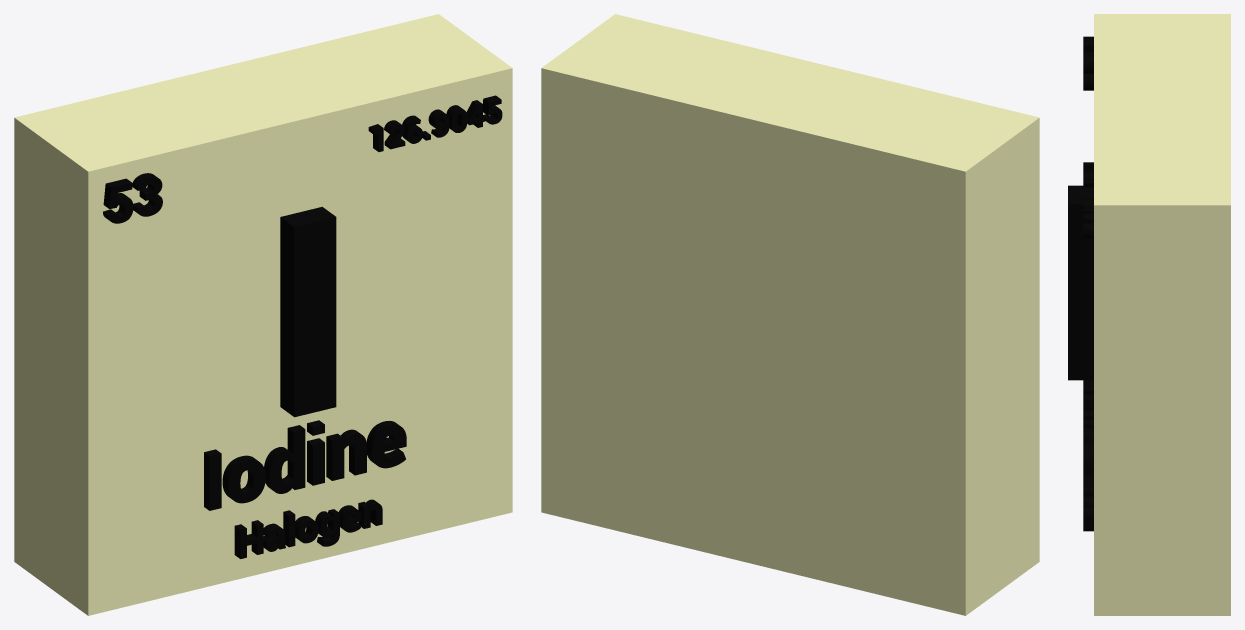
The picture shows the model from 3 angles, left to right: view 1: azimuth 30°, elevation 25°; view 2: azimuth 150°, elevation 25°; view 3: azimuth 270°, elevation 25°; orthographic projection. The views are drawn at different scales.
Parts seen in each view (by area): view 1: Cube, Text, Text.001, Text.002, Text.004, Text.003; view 2: Cube; view 3: Cube, Text, Text.001, Text.004, Text.003, Text.002.
Boxes of the visible parts, <box> form: Cube: <box>14,14,512,615</box>; Text: <box>280,206,336,417</box>; Text.001: <box>204,420,406,510</box>; Text.002: <box>234,499,382,558</box>; Text.004: <box>368,95,502,151</box>; Text.003: <box>103,173,162,223</box>; Cube: <box>541,14,1039,615</box>; Cube: <box>1094,14,1230,615</box>; Text: <box>1068,185,1093,380</box>; Text.001: <box>1083,380,1093,487</box>; Text.004: <box>1083,162,1093,238</box>; Text.003: <box>1083,36,1093,90</box>; Text.002: <box>1083,487,1093,531</box>.
Size of the model in its own units: 178 by 178 by 63.95.
